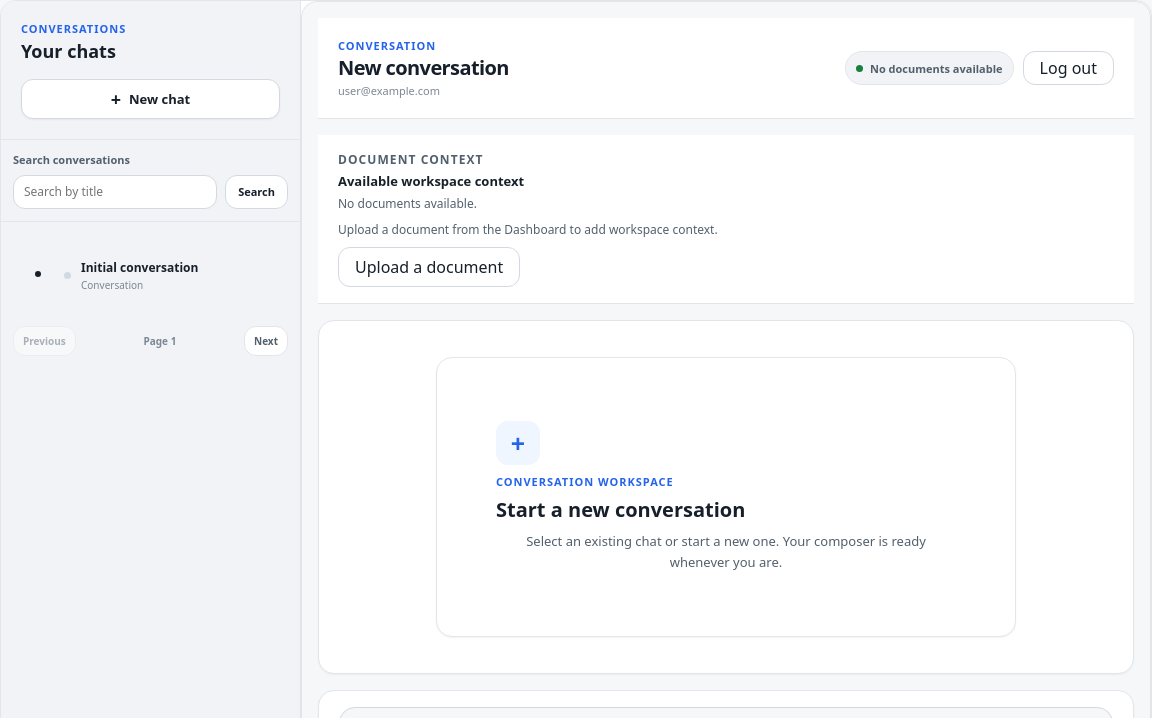
Test: ChatPage › resets conversation pagination to page 1 when a new search is submitted
The width and height of the screenshot is (1152, 718).
Expected: the button "Initial conversation Conversation" is shown, [53,250,288,302]
Click the button with aria-label "Next conversation page" at (266, 341), box [244,326,288,356]
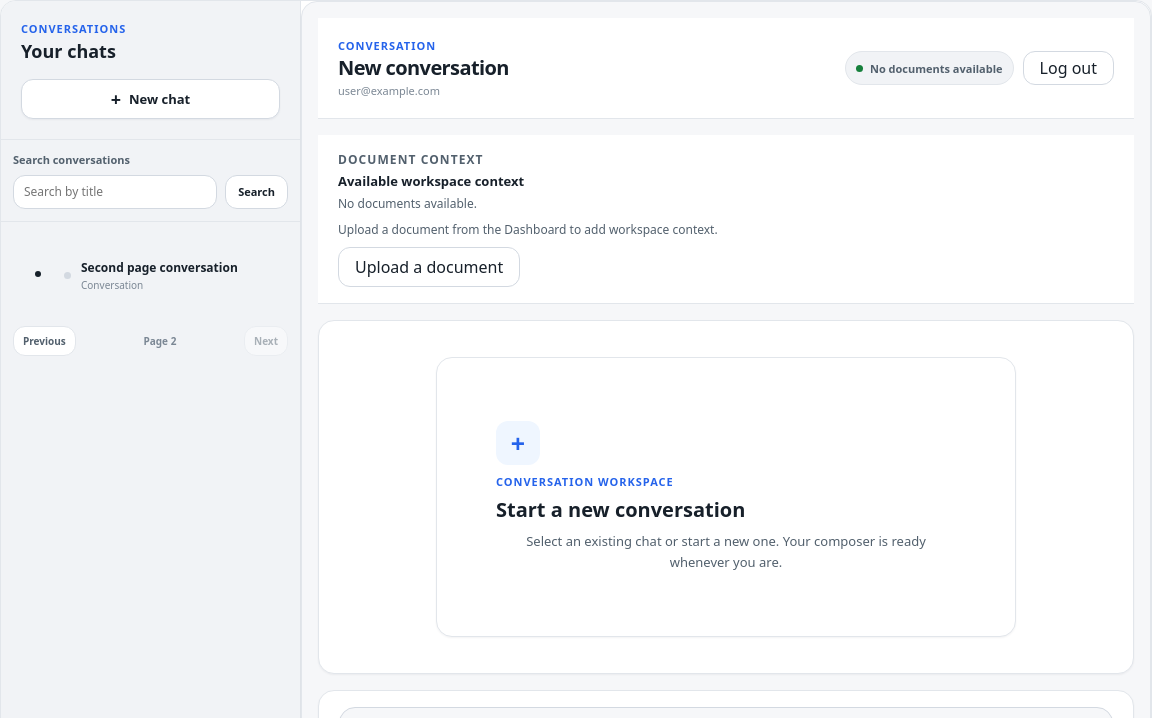
Type "report" into the search field labelled "Search conversations" at (115, 192), box [13,175,217,209]
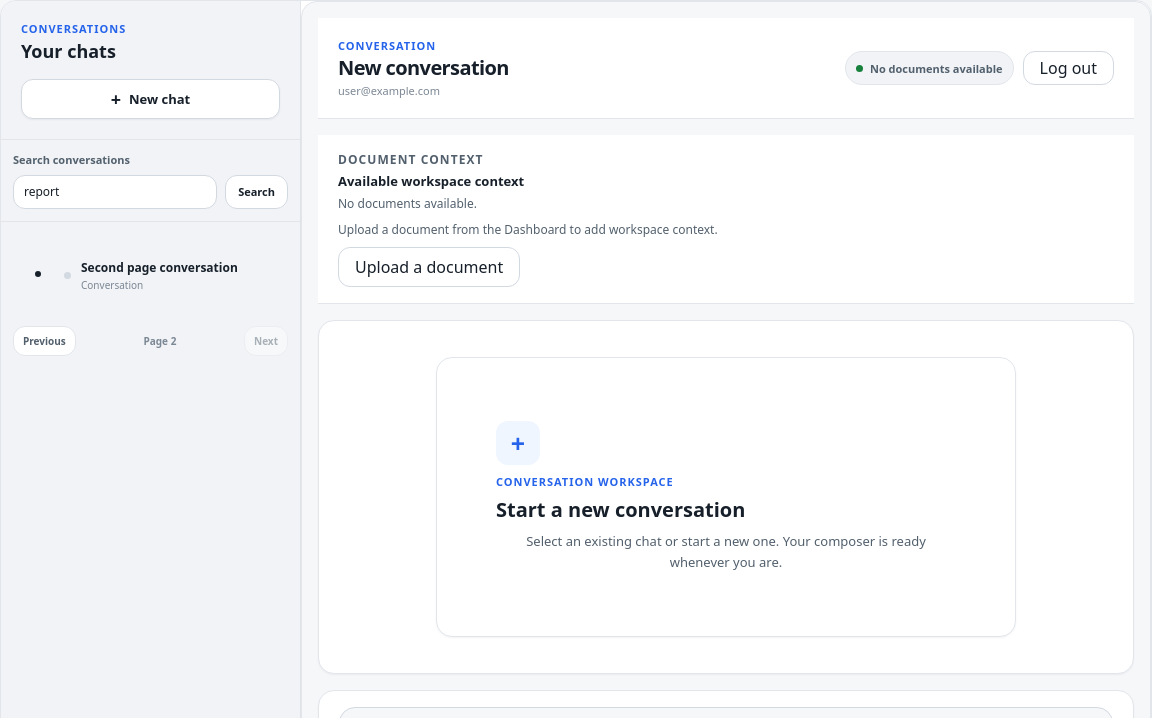
Submit the form "Search conversations", box [1,140,300,222]
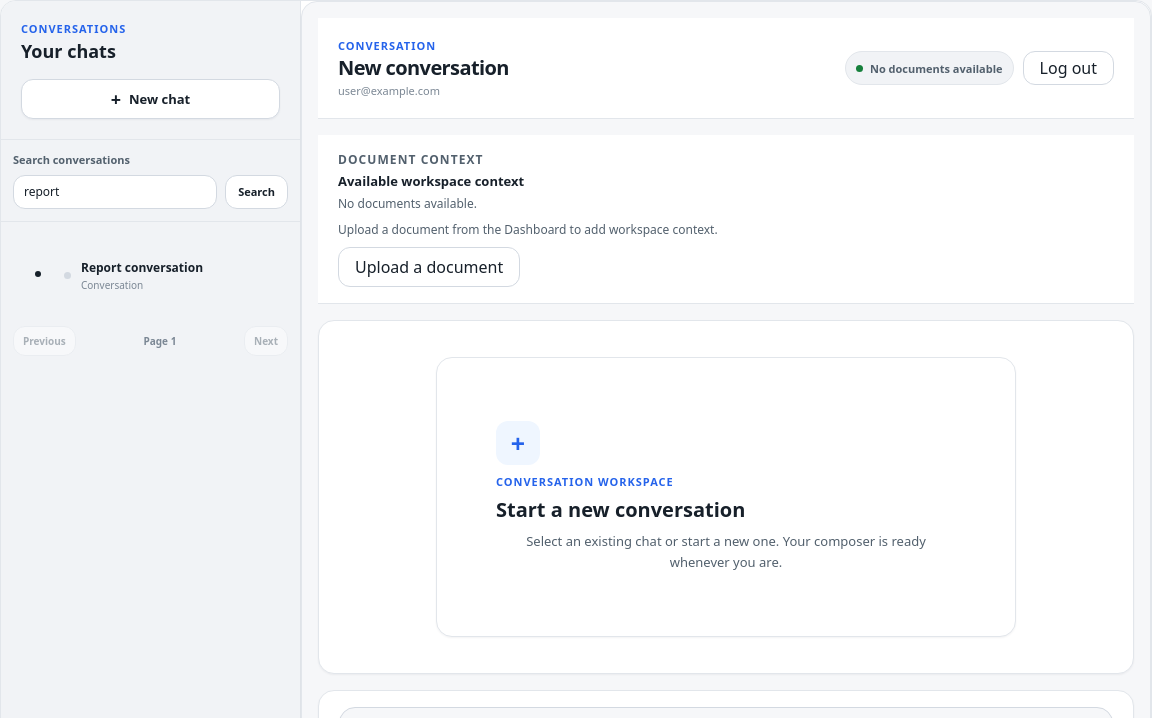
Result: the button "Report conversation Conversation" is shown at [53,250,288,302]
Result: the button with aria-label "Previous conversation page" is disabled at [13,326,76,356]
